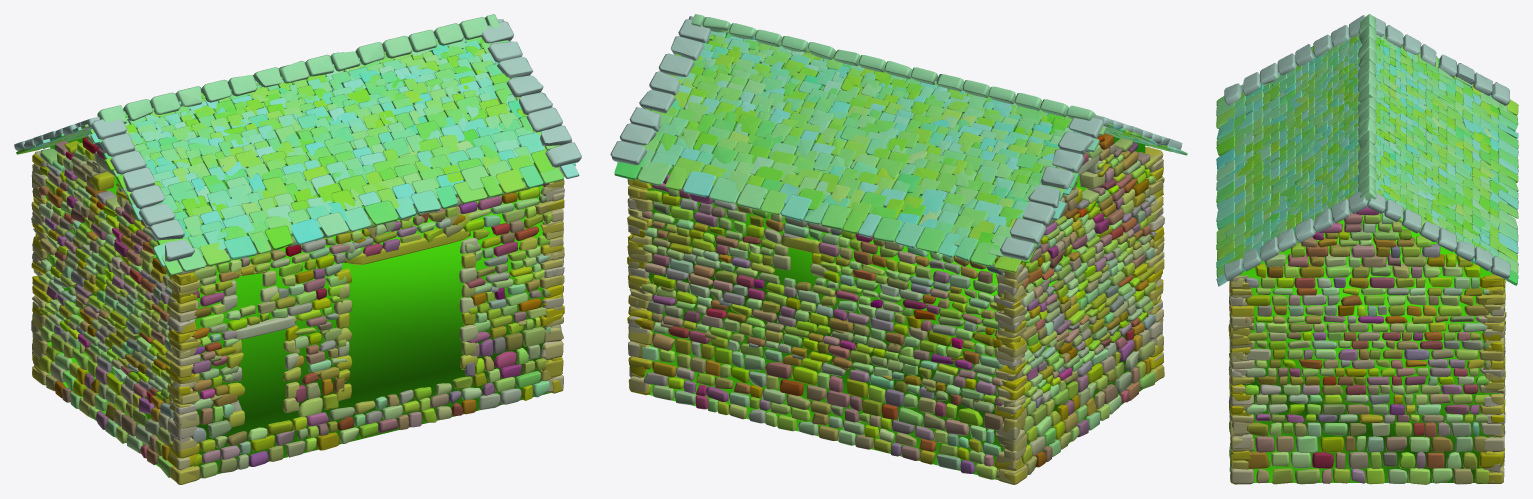
Rendered from SM_Barn_11.glb.
The picture shows the model from 3 angles, left to right: view 1: azimuth 30°, elevation 25°; view 2: azimuth 150°, elevation 25°; view 3: azimuth 270°, elevation 25°; orthographic projection. The views are drawn at different scales.
Visible parts, largest first — view 1: SM_Barn_11; view 2: SM_Barn_11; view 3: SM_Barn_11.
Part boxes in pixels (x1,y1,x2,y2): SM_Barn_11: [14, 14, 581, 484]; SM_Barn_11: [610, 14, 1187, 484]; SM_Barn_11: [1216, 14, 1518, 484].
Bounding box in the file's own units: 9.79 × 7.16 × 6.61.
